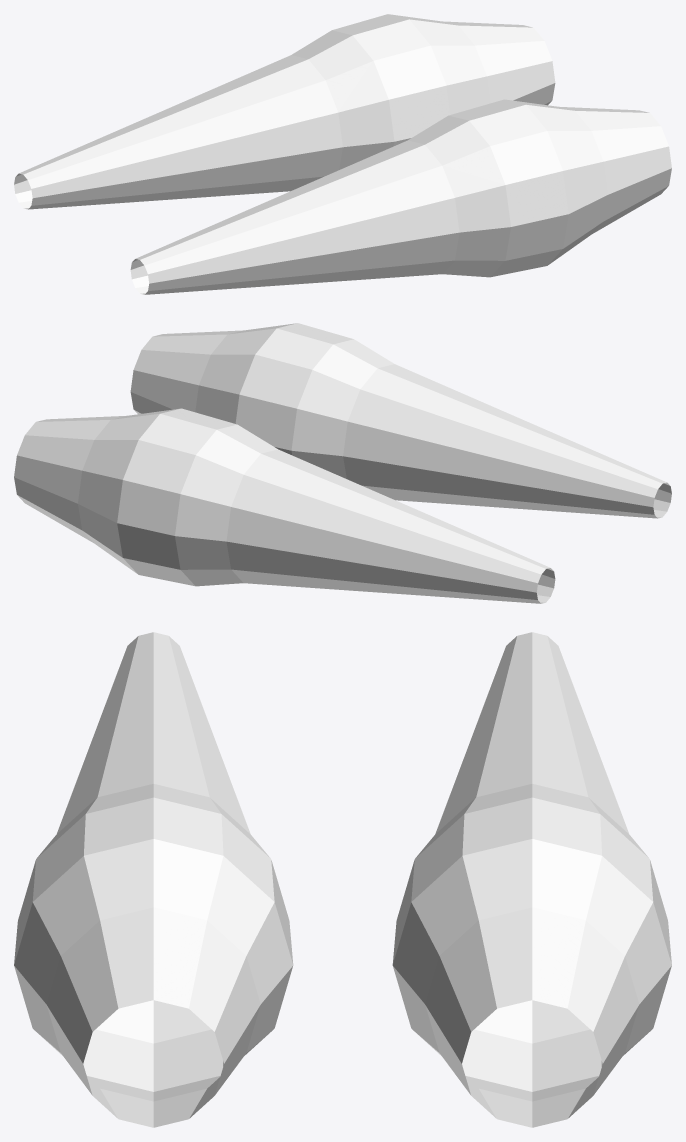
File: Fire.obj
The picture shows the model from 3 angles, top to bottom: view 1: azimuth 30°, elevation 25°; view 2: azimuth 150°, elevation 25°; view 3: azimuth 270°, elevation 25°; orthographic projection. The views are drawn at different scales.
Size of the model in its own units: 0.4548 by 0.1327 by 0.3127.
